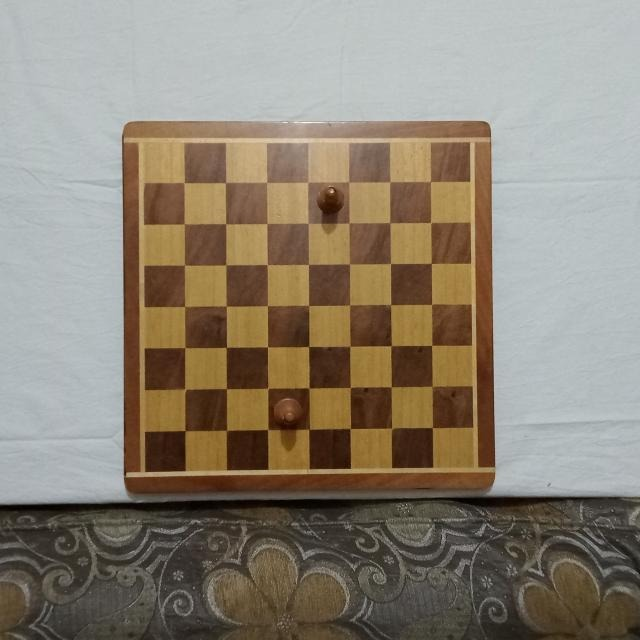white-bishop: (271, 395, 303, 429), (317, 184, 347, 214)
